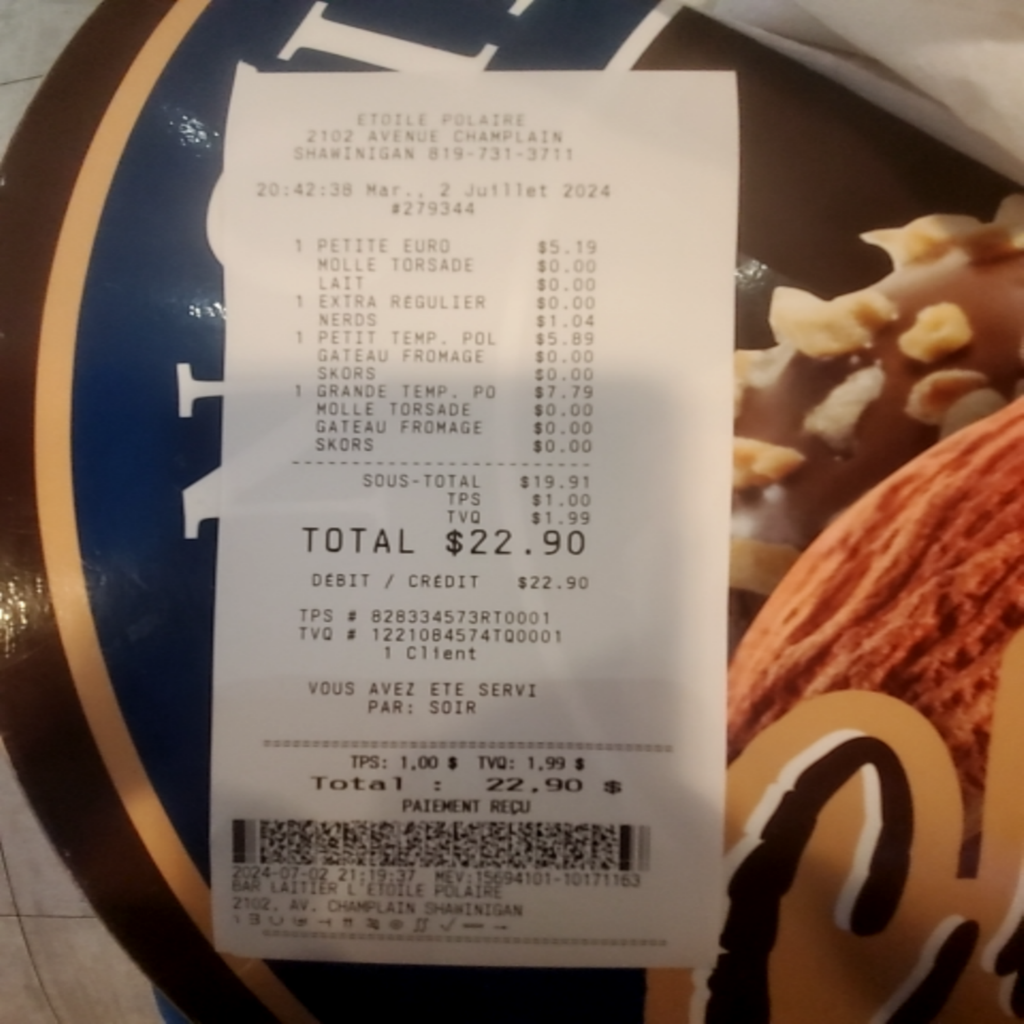recipt: (214, 69, 741, 969)
